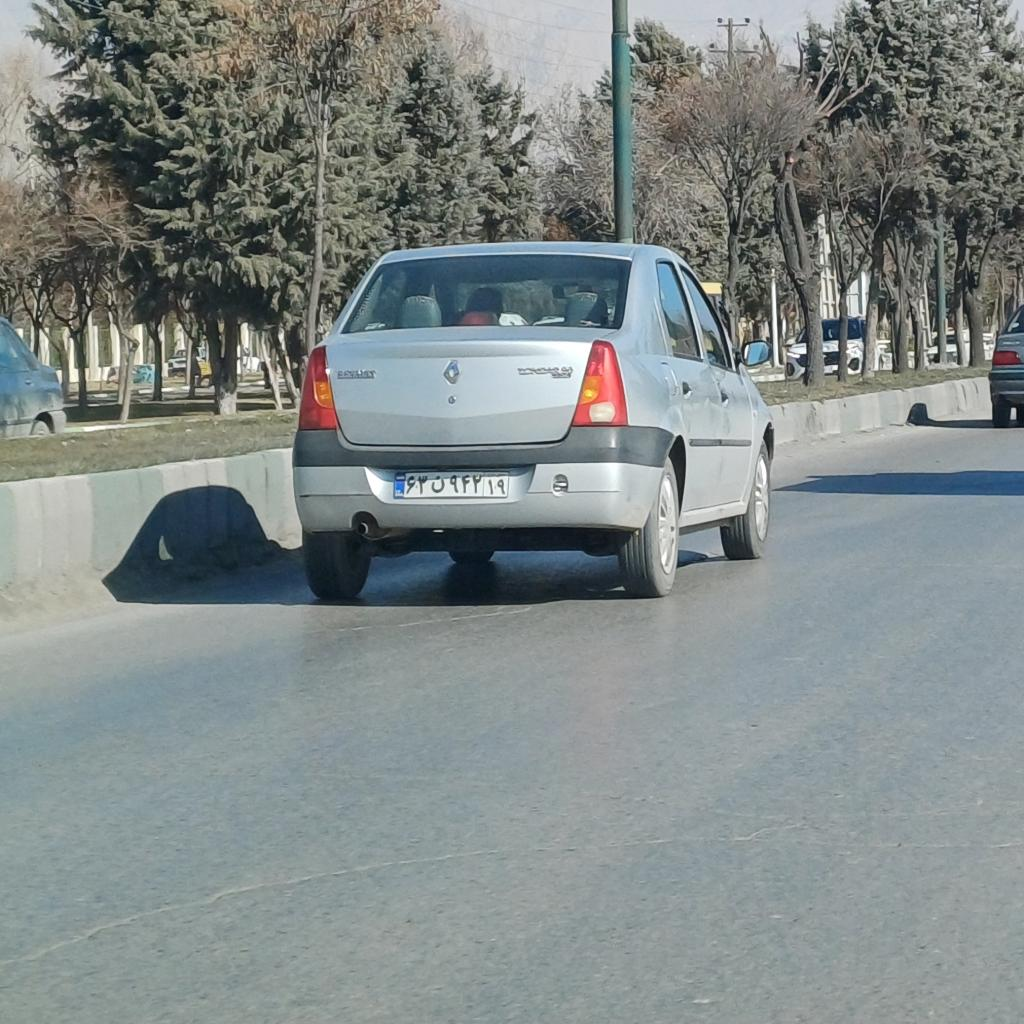Plates: (393, 470, 510, 499)
